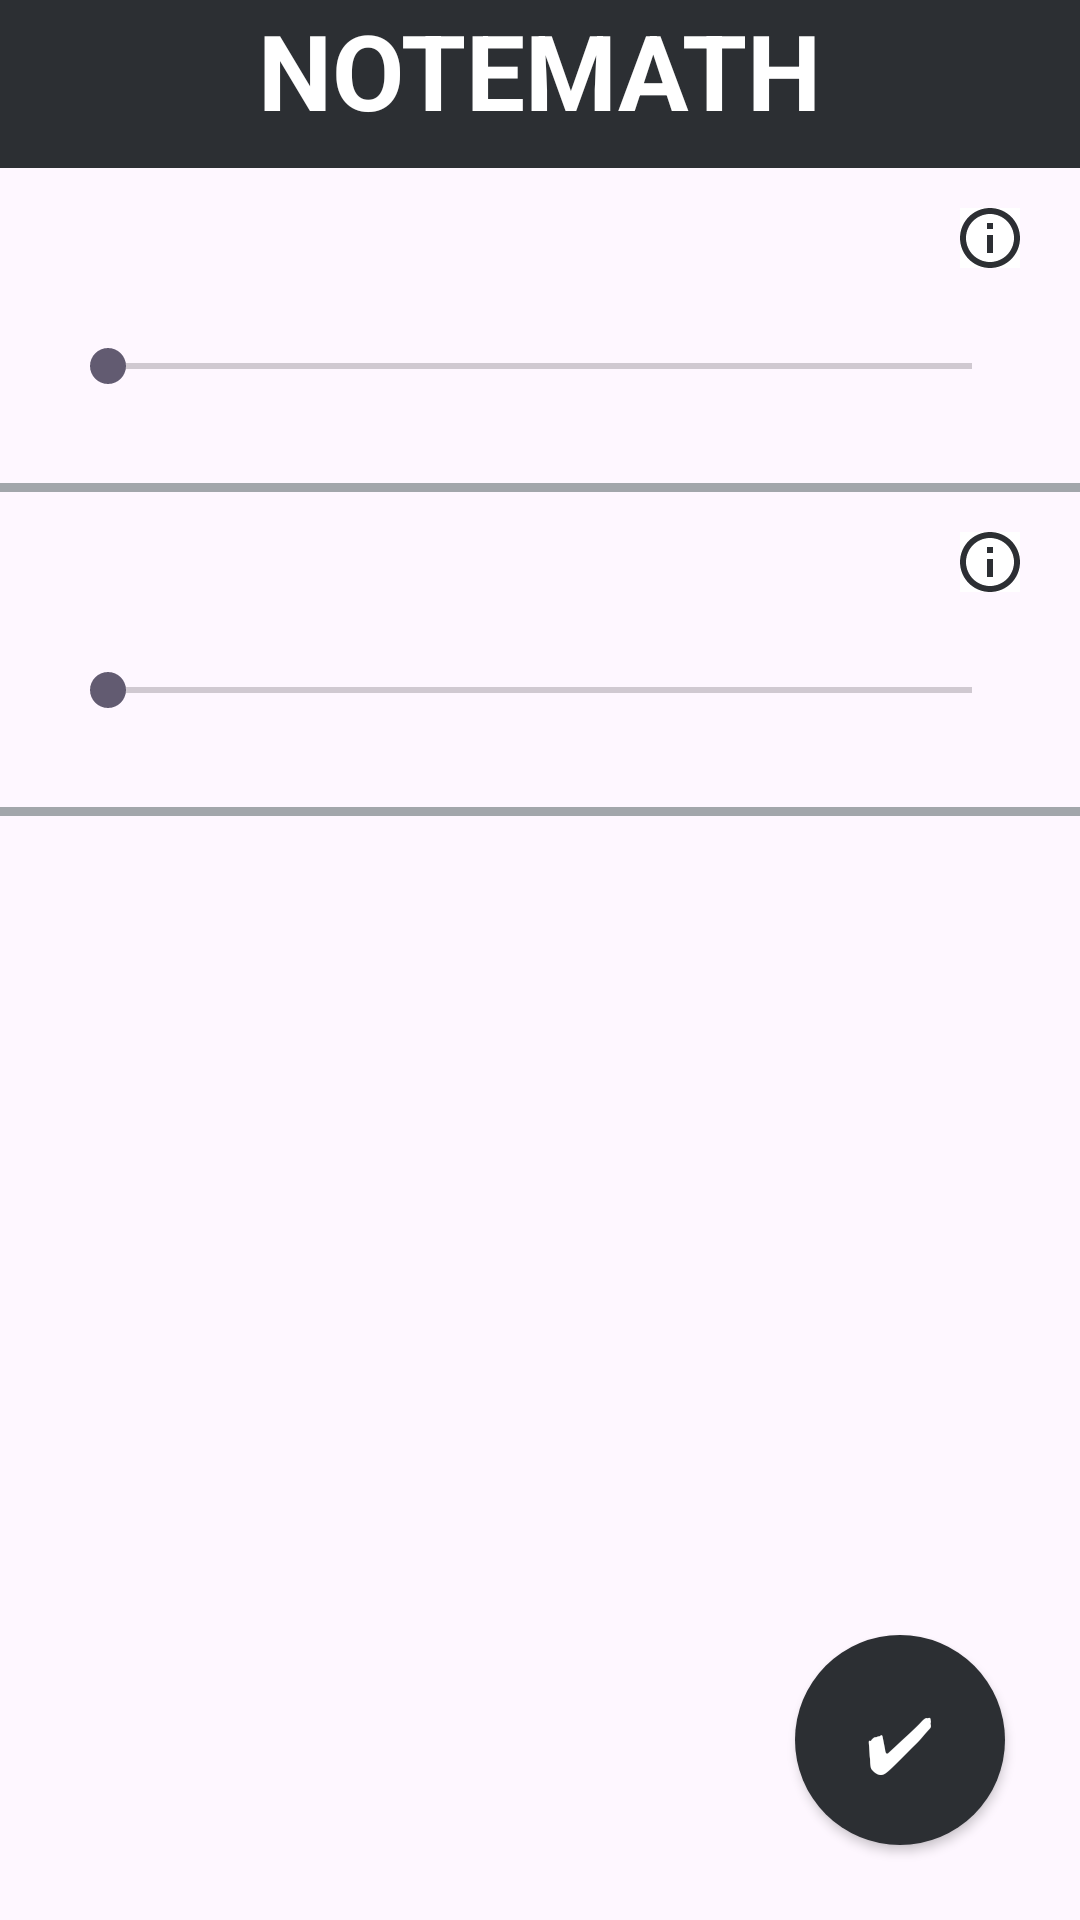

Named icons in this screenshot (1080×1920) and their centers, point (x, y):
info: point (990, 238), point (990, 562)
